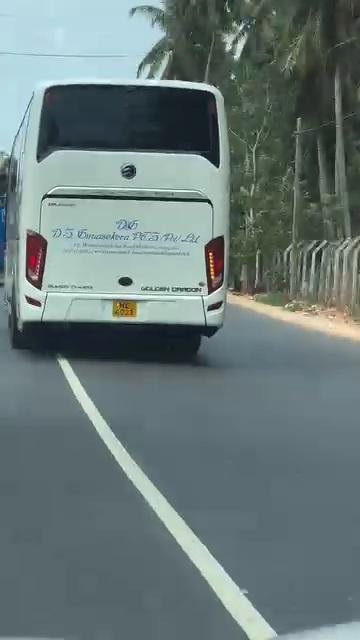illegal overtaking: (9, 75, 250, 367)
number plate: (110, 290, 142, 326)
